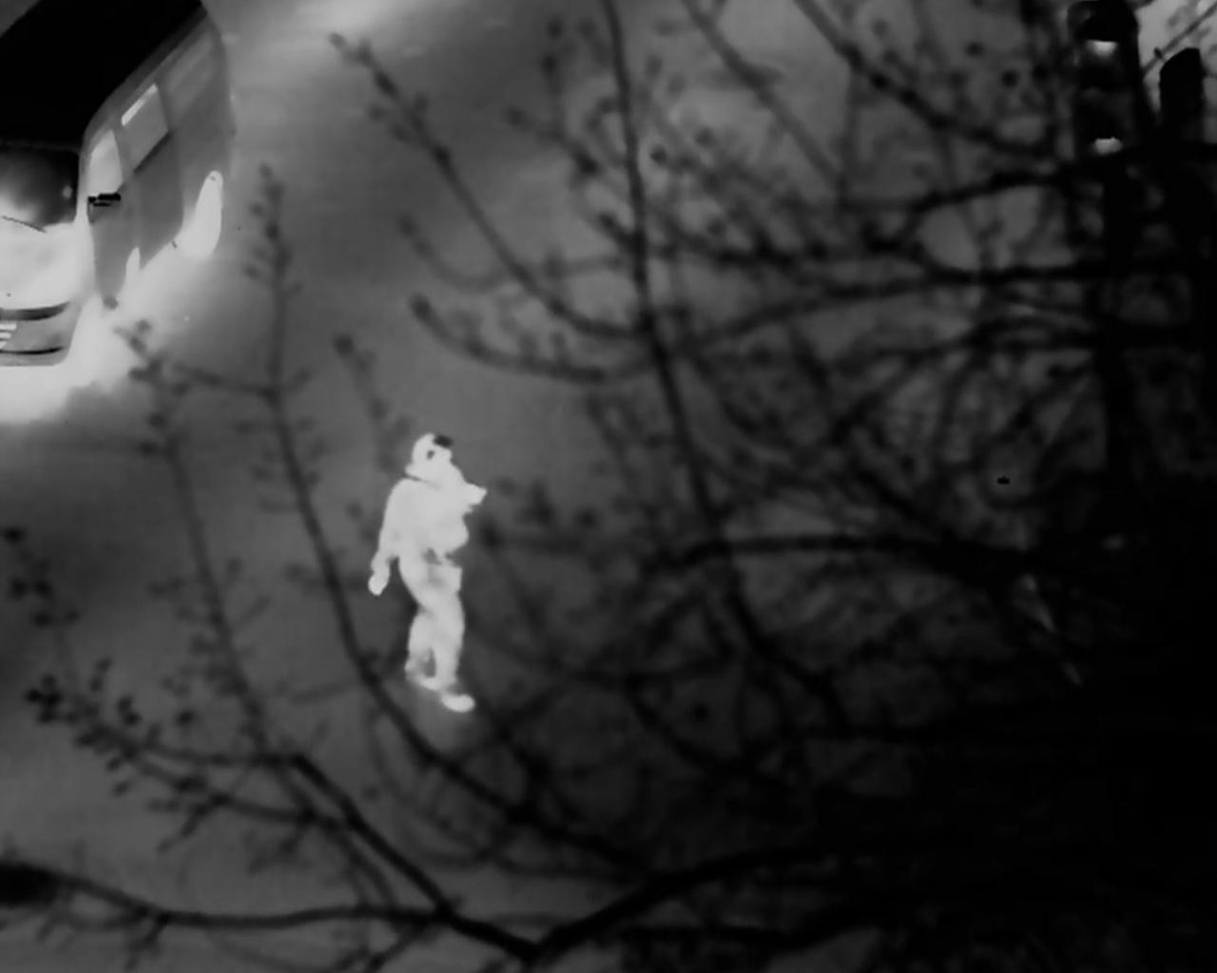person: (378, 429, 489, 710)
